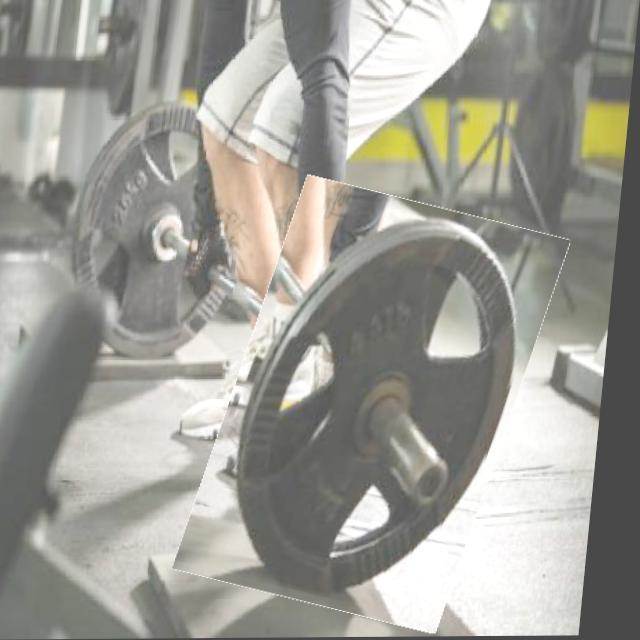barbell: (204, 189, 558, 623)
